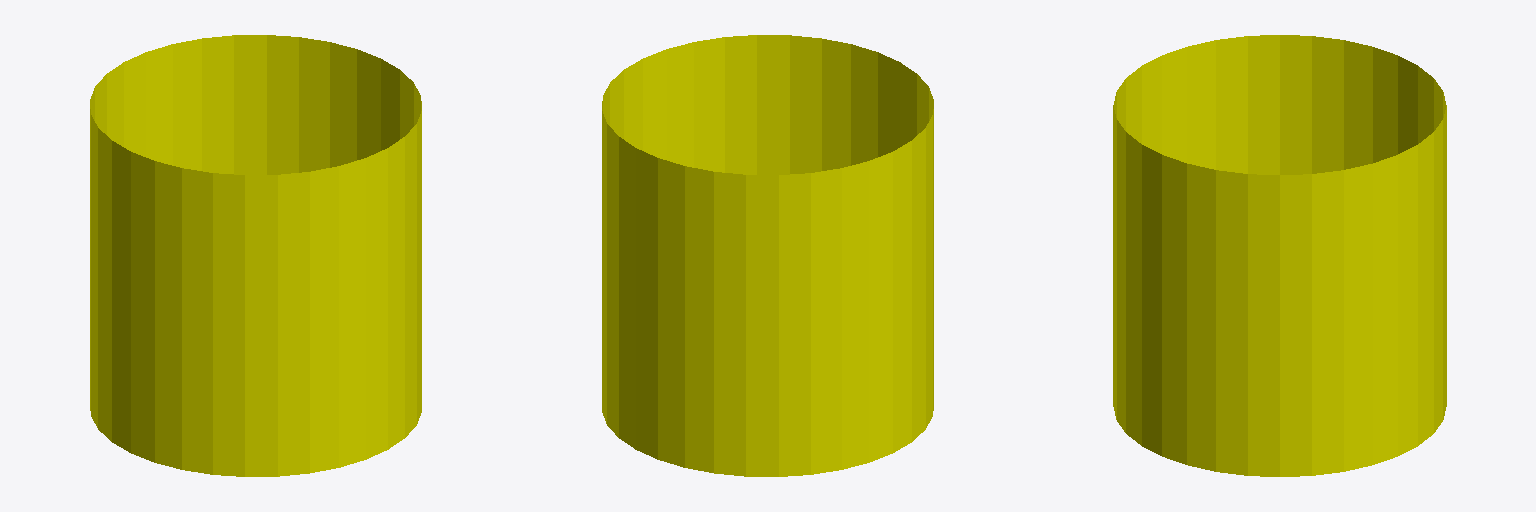
Rendered from agent.obj.
3 renders of one model, left to right at view 1: azimuth 30°, elevation 25°; view 2: azimuth 150°, elevation 25°; view 3: azimuth 270°, elevation 25°, orthographic.
Size of the model in its own units: 2 by 2 by 2.